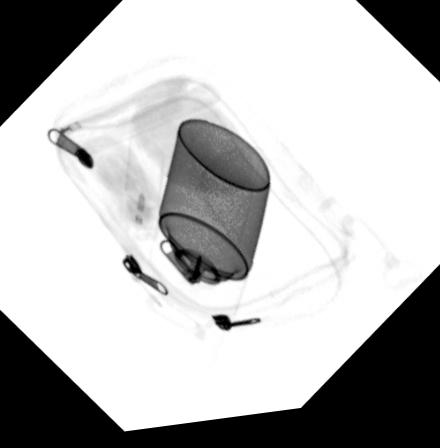Sprayer: (144, 120, 272, 337)
